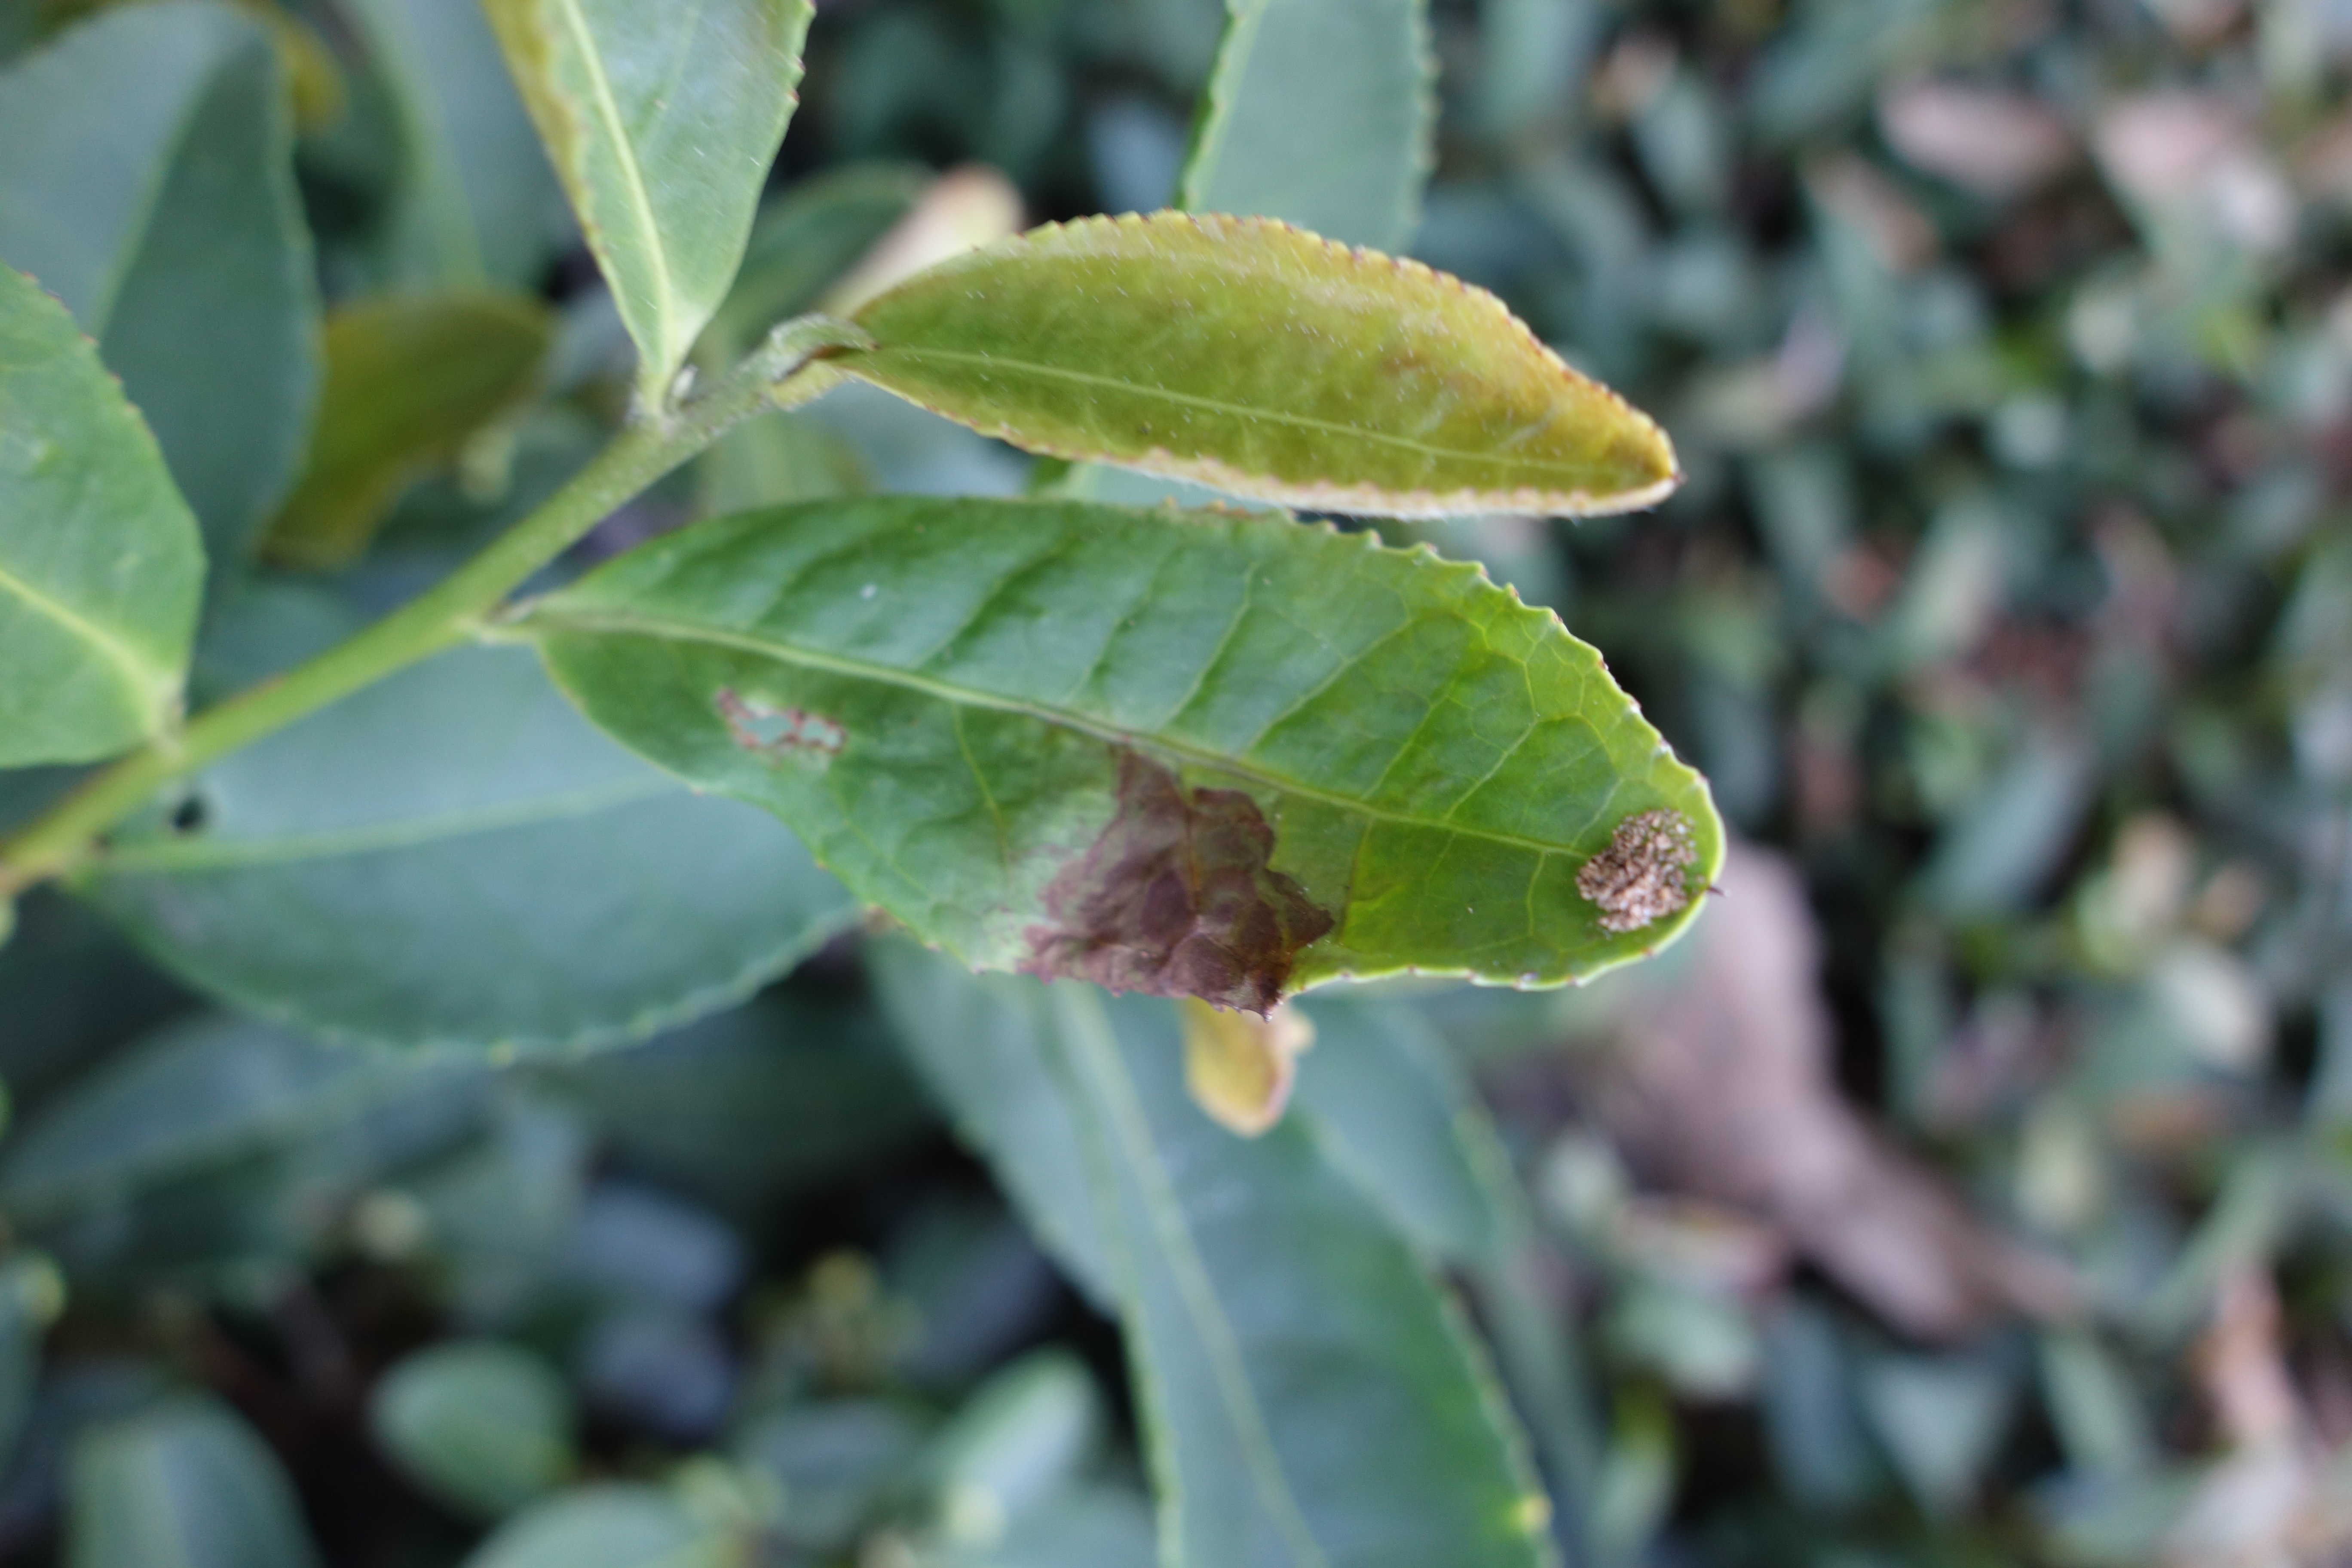tanju_high: (535, 495, 1732, 1017)
tanju_low: (812, 205, 1687, 523)
